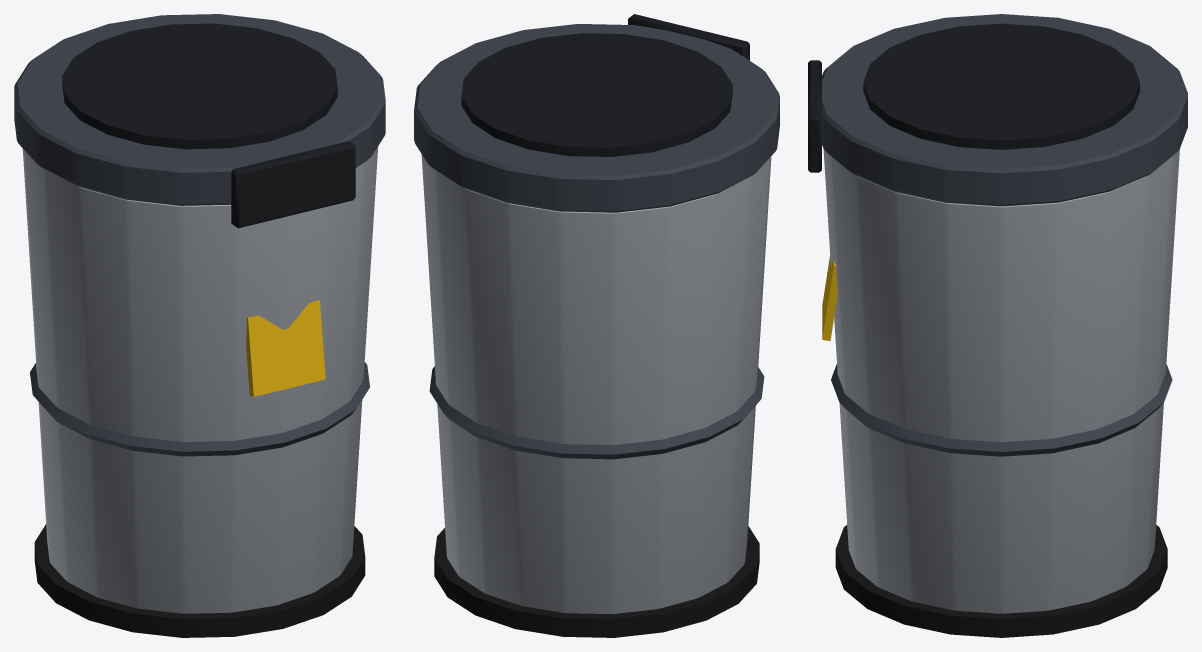
Rendered from bin_trash_bin.glb.
3 renders of one model, left to right at view 1: azimuth 30°, elevation 25°; view 2: azimuth 150°, elevation 25°; view 3: azimuth 270°, elevation 25°, orthographic.
Visible parts, largest first — view 1: bin_trash_bin; view 2: bin_trash_bin; view 3: bin_trash_bin.
Boxes of the visible parts, x1,y1,x2,y2 form: bin_trash_bin: (14,14,385,637); bin_trash_bin: (414,14,779,637); bin_trash_bin: (808,14,1187,637).
Bounding box in the file's own units: 0.5384 × 0.778 × 0.5492.
